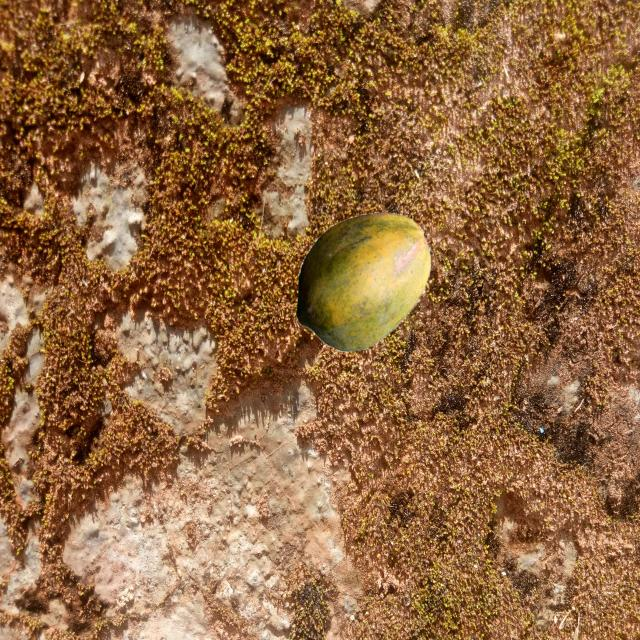Pepaya rippen: (287, 200, 437, 359)
